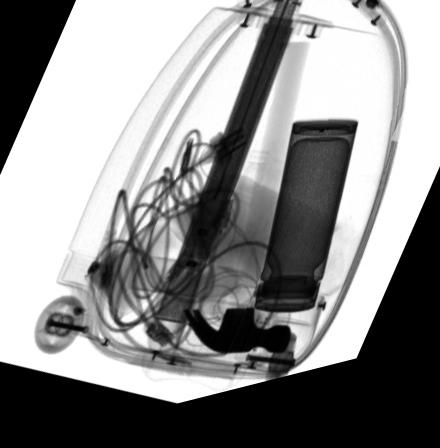Hammer: (181, 55, 309, 366)
